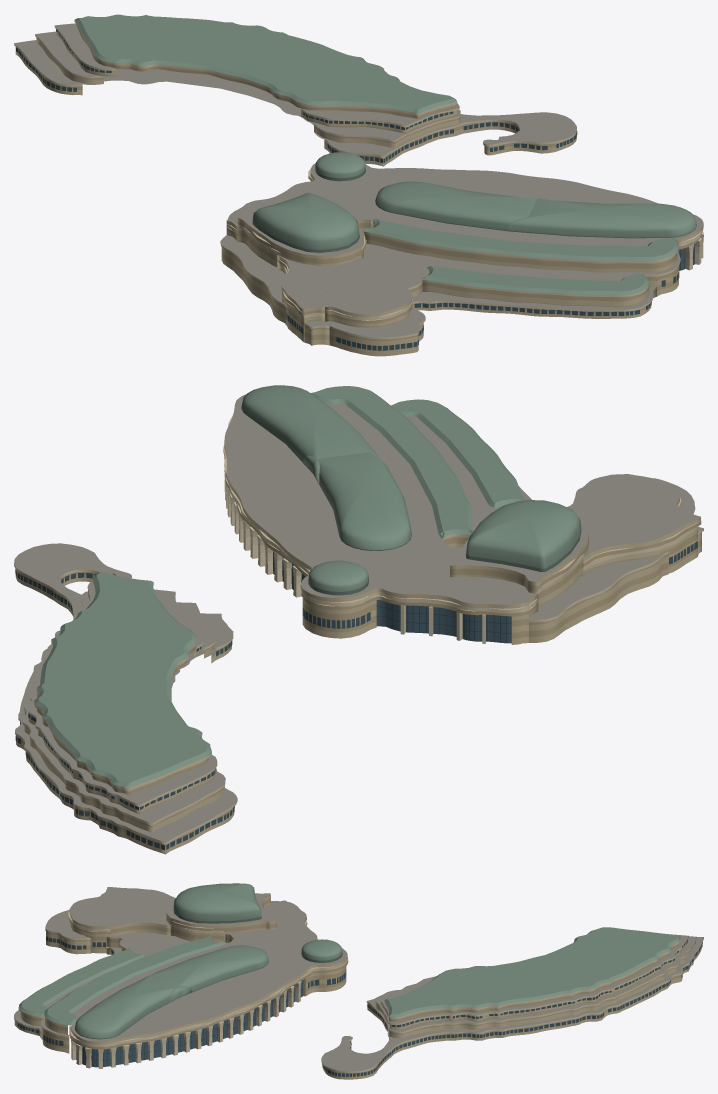
File: canadian-museum-of-history-near.glb
3 renders of one model, top to bottom at view 1: azimuth 30°, elevation 25°; view 2: azimuth 150°, elevation 25°; view 3: azimuth 270°, elevation 25°, orthographic. The views are drawn at different scales.
Visible parts, largest first — view 1: canadian-museum-of-history-0-copper, canadian-museum-of-history-0-roof, canadian-museum-of-history-0-stone, canadian-museum-of-history-0-stoneDark, canadian-museum-of-history-0-stoneLight, canadian-museum-of-history-0-glass, canadian-museum-of-history-0-copperDark; view 2: canadian-museum-of-history-0-copper, canadian-museum-of-history-0-roof, canadian-museum-of-history-0-stone, canadian-museum-of-history-0-stoneLight, canadian-museum-of-history-0-stoneDark, canadian-museum-of-history-0-glow, canadian-museum-of-history-0-glass, canadian-museum-of-history-0-copperDark, canadian-museum-of-history-0-frame; view 3: canadian-museum-of-history-0-copper, canadian-museum-of-history-0-roof, canadian-museum-of-history-0-stone, canadian-museum-of-history-0-stoneLight, canadian-museum-of-history-0-stoneDark, canadian-museum-of-history-0-glass, canadian-museum-of-history-0-glow, canadian-museum-of-history-0-copperDark, canadian-museum-of-history-0-frame.
Boxes of the visible parts, bbox=[...] form: canadian-museum-of-history-0-copper: bbox=[75, 14, 696, 295]; canadian-museum-of-history-0-roof: bbox=[14, 23, 703, 337]; canadian-museum-of-history-0-stone: bbox=[15, 31, 703, 356]; canadian-museum-of-history-0-stoneDark: bbox=[15, 24, 701, 351]; canadian-museum-of-history-0-stoneLight: bbox=[14, 20, 703, 339]; canadian-museum-of-history-0-glass: bbox=[16, 29, 679, 350]; canadian-museum-of-history-0-copperDark: bbox=[252, 168, 696, 252]; canadian-museum-of-history-0-copper: bbox=[34, 385, 581, 788]; canadian-museum-of-history-0-roof: bbox=[14, 394, 703, 842]; canadian-museum-of-history-0-stone: bbox=[15, 416, 701, 854]; canadian-museum-of-history-0-stoneLight: bbox=[14, 449, 703, 844]; canadian-museum-of-history-0-stoneDark: bbox=[15, 477, 701, 848]; canadian-museum-of-history-0-glow: bbox=[258, 534, 511, 643]; canadian-museum-of-history-0-glass: bbox=[15, 541, 697, 850]; canadian-museum-of-history-0-copperDark: bbox=[241, 408, 581, 595]; canadian-museum-of-history-0-frame: bbox=[258, 548, 511, 642]; canadian-museum-of-history-0-copper: bbox=[18, 883, 679, 1038]; canadian-museum-of-history-0-roof: bbox=[14, 887, 703, 1071]; canadian-museum-of-history-0-stone: bbox=[14, 896, 702, 1079]; canadian-museum-of-history-0-stoneLight: bbox=[14, 916, 703, 1072]; canadian-museum-of-history-0-stoneDark: bbox=[14, 898, 701, 1075]; canadian-museum-of-history-0-glass: bbox=[17, 936, 702, 1076]; canadian-museum-of-history-0-glow: bbox=[76, 980, 303, 1067]; canadian-museum-of-history-0-copperDark: bbox=[75, 909, 342, 1039]; canadian-museum-of-history-0-frame: bbox=[76, 983, 302, 1066].
Bounding box in the file's own units: 181 × 27 × 318.
